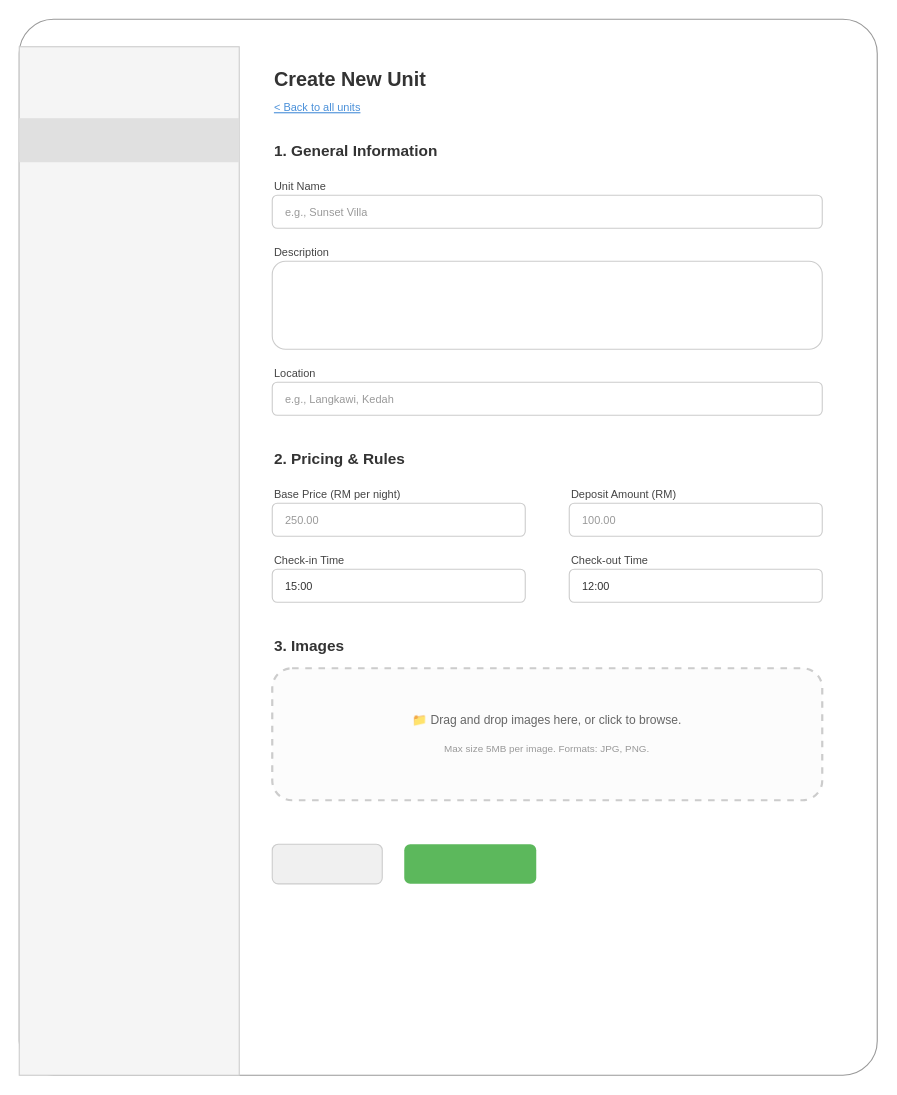
Image size: 897x1095. Some labels were removed from this diagram. The centre of each missing label's shape, as x and y in pixels:
Cancel: (x=326, y=863)
Create Unit: (x=470, y=863)
Homestay Units: (x=129, y=140)
Provide a detailed description of the property...: (x=546, y=304)
